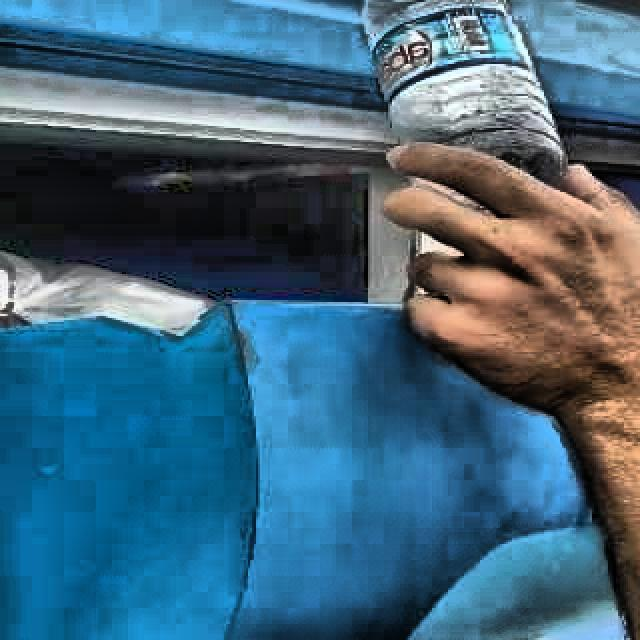plastic: (363, 0, 565, 180)
